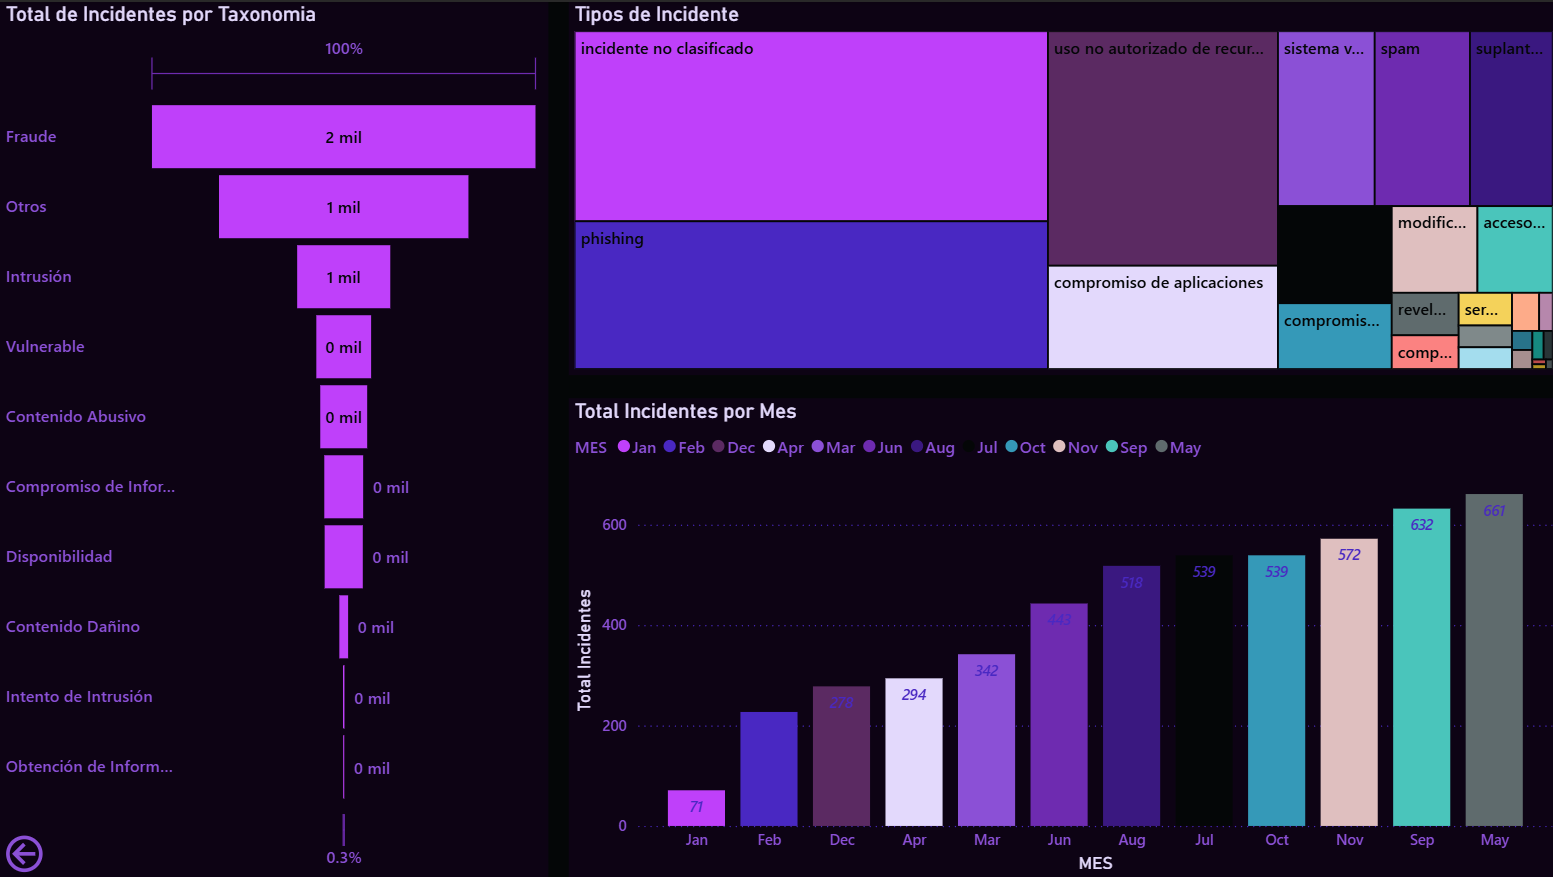

The dashboard page shown, as its layout file describes it:
{"tool":"powerbi","page":{"name":"Anatomía del Ataque y Sectores","canvas":[1280,720],"ordinal":1},"visuals":[{"type":"columnChart","title":"Total Incidentes por Mes","fields":{"Y":["DatasetClean.Total Incidentes"],"Category":["DatasetClean.MES"],"Series":["DatasetClean.MES"]},"box":[466.7,325,813.3,395],"z":0},{"type":"treemap","title":"Tipos de Incidente","fields":{"Group":["DatasetClean.TIPO DE INCIDENTE"],"Values":["DatasetClean.Total Incidentes"]},"box":[466.7,0,813.3,306.7],"z":2000},{"type":"funnel","title":"Total de Incidentes por Taxonomia","fields":{"Category":["DatasetClean.CLASIFICACIÓN TAXONOMÍA"],"Y":["DatasetClean.Total Incidentes"]},"box":[0,0,450,720],"z":5000},{"type":"actionButton","box":[0,680,42.5,40],"z":6000}]}

Visuals, with their boxes in screenshot pixels (x1, y1, x2, y2), scaled from the page's 1280x720 canvas onto the 1553x877 screenshot:
"Total Incidentes por Mes" columnChart: bbox(566, 396, 1552, 876)
"Tipos de Incidente" treemap: bbox(566, 0, 1552, 374)
"Total de Incidentes por Taxonomia" funnel: bbox(0, 0, 546, 876)
actionButton: bbox(0, 828, 52, 876)
